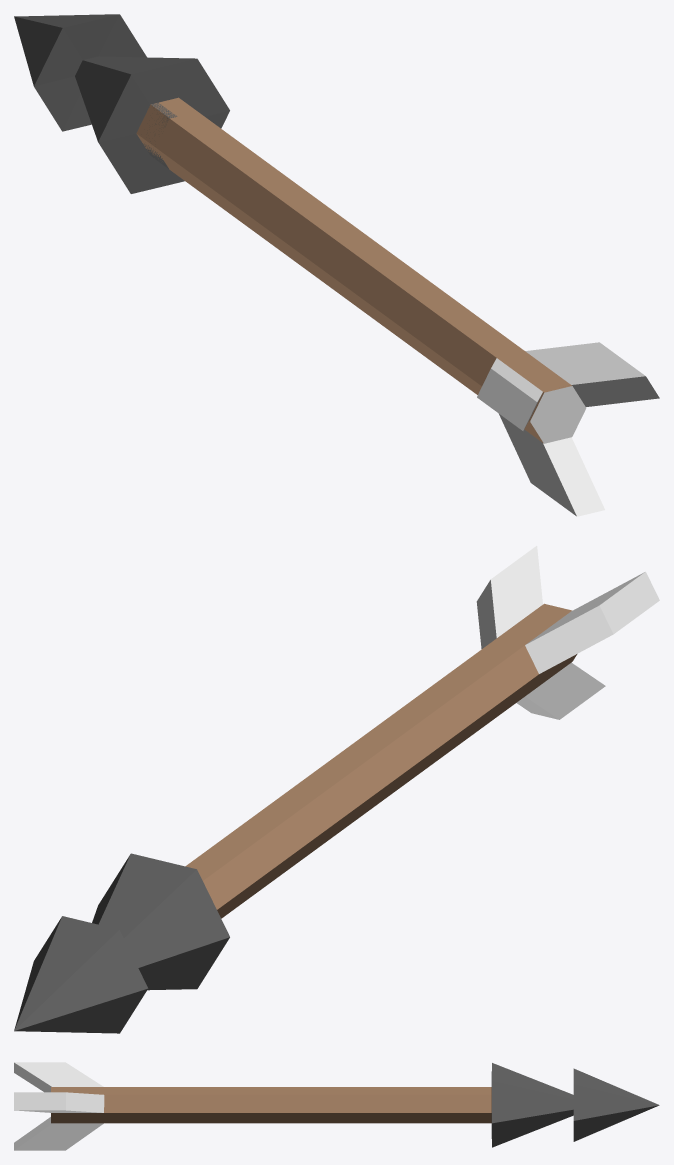
Rendered from BalistaProjectiles.fbx.
The picture shows the model from 3 angles, top to bottom: view 1: azimuth 30°, elevation 25°; view 2: azimuth 150°, elevation 25°; view 3: azimuth 270°, elevation 25°; orthographic projection. The views are drawn at different scales.
Visible parts, largest first — view 1: BalistaProjectieModel lvl3, BalistaProjectieModel lvl1, BalistaProjectieModel lvl2, BalistaProjectieModel lvl0; view 2: BalistaProjectieModel lvl3, BalistaProjectieModel lvl1, BalistaProjectieModel lvl0, BalistaProjectieModel lvl2; view 3: BalistaProjectieModel lvl0, BalistaProjectieModel lvl3, BalistaProjectieModel lvl2.
Part boxes in pixels (x1,y1,x2,y2): BalistaProjectieModel lvl3: [14, 14, 659, 516]; BalistaProjectieModel lvl1: [136, 103, 586, 443]; BalistaProjectieModel lvl2: [137, 103, 501, 382]; BalistaProjectieModel lvl0: [159, 97, 570, 389]; BalistaProjectieModel lvl3: [14, 546, 659, 1033]; BalistaProjectieModel lvl1: [200, 603, 577, 909]; BalistaProjectieModel lvl0: [185, 604, 562, 874]; BalistaProjectieModel lvl2: [201, 644, 528, 908]; BalistaProjectieModel lvl0: [52, 1089, 491, 1123]; BalistaProjectieModel lvl3: [14, 1062, 659, 1150]; BalistaProjectieModel lvl2: [105, 1087, 491, 1089].
Bounding box in the file's own units: 1.18 × 1.1 × 8.61.
